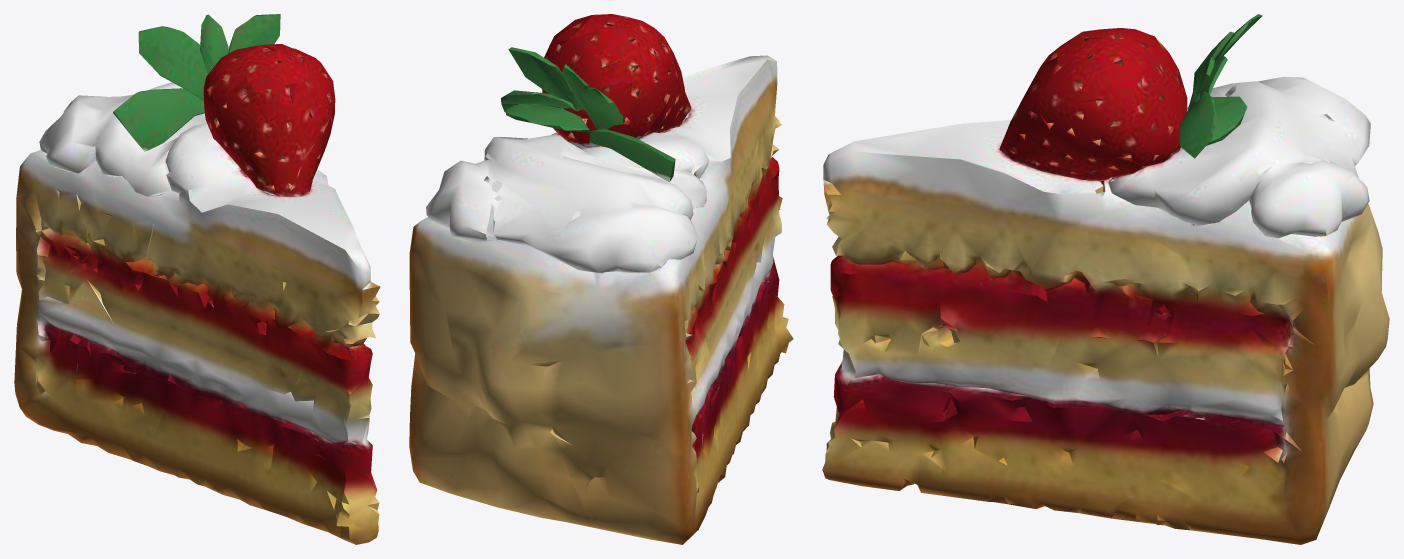
Rendered from tarta.glb.
3 renders of one model, left to right at view 1: azimuth 30°, elevation 25°; view 2: azimuth 150°, elevation 25°; view 3: azimuth 270°, elevation 25°, orthographic. The views are drawn at different scales.
Visible parts, largest first — view 1: objeto; view 2: objeto; view 3: objeto.
Part boxes in pixels (x1,y1,x2,y2): objeto: [14, 14, 380, 544]; objeto: [409, 14, 793, 544]; objeto: [822, 14, 1389, 544].
Bounding box in the file's own units: 0.5567 × 0.8009 × 0.894.
Materials: 1 (1 with a texture image).
